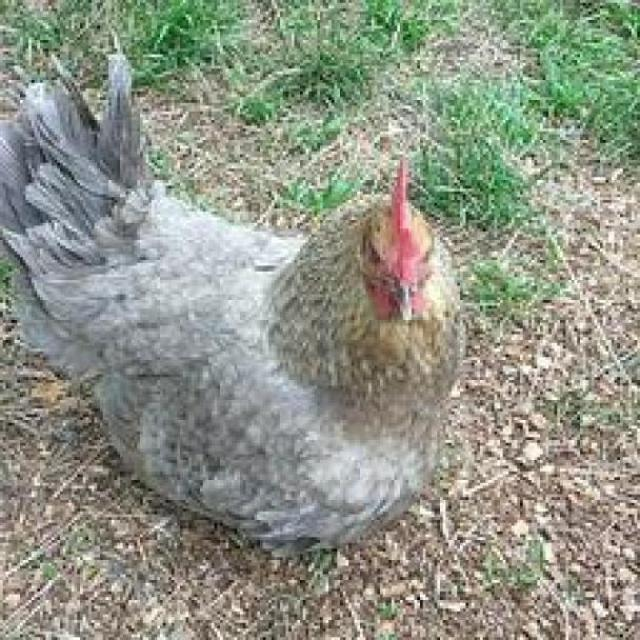Chicken: (1, 45, 494, 640)
